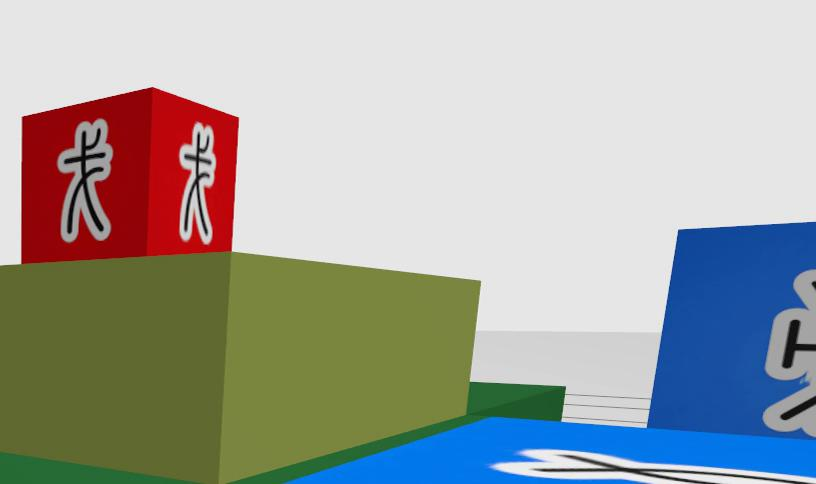KFS_FAKE: (22, 89, 237, 262), (58, 119, 112, 241), (179, 123, 217, 242)
KFS_REAL: (649, 222, 815, 439), (766, 269, 815, 379), (763, 387, 815, 436)
